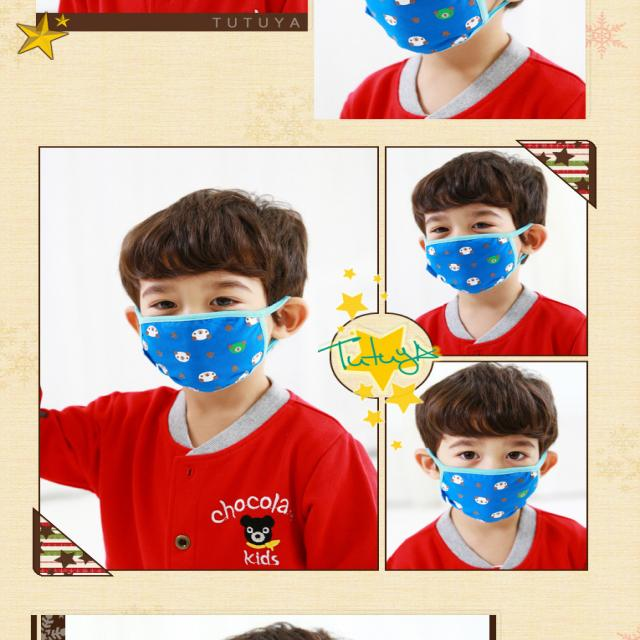mask: (135, 250, 268, 391), (437, 431, 537, 521), (422, 199, 515, 292)
